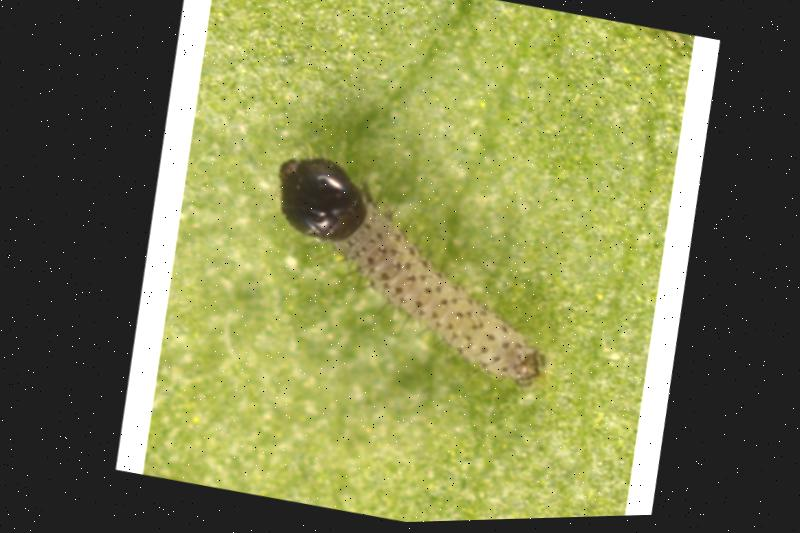fall-armyworm: (277, 158, 542, 389)
